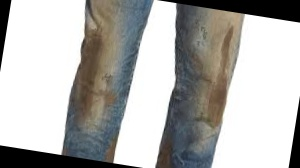earth: (68, 35, 105, 123), (206, 27, 237, 126), (84, 0, 115, 37), (211, 11, 241, 30), (99, 88, 116, 107), (158, 145, 172, 168), (191, 53, 207, 71), (107, 139, 116, 163)
